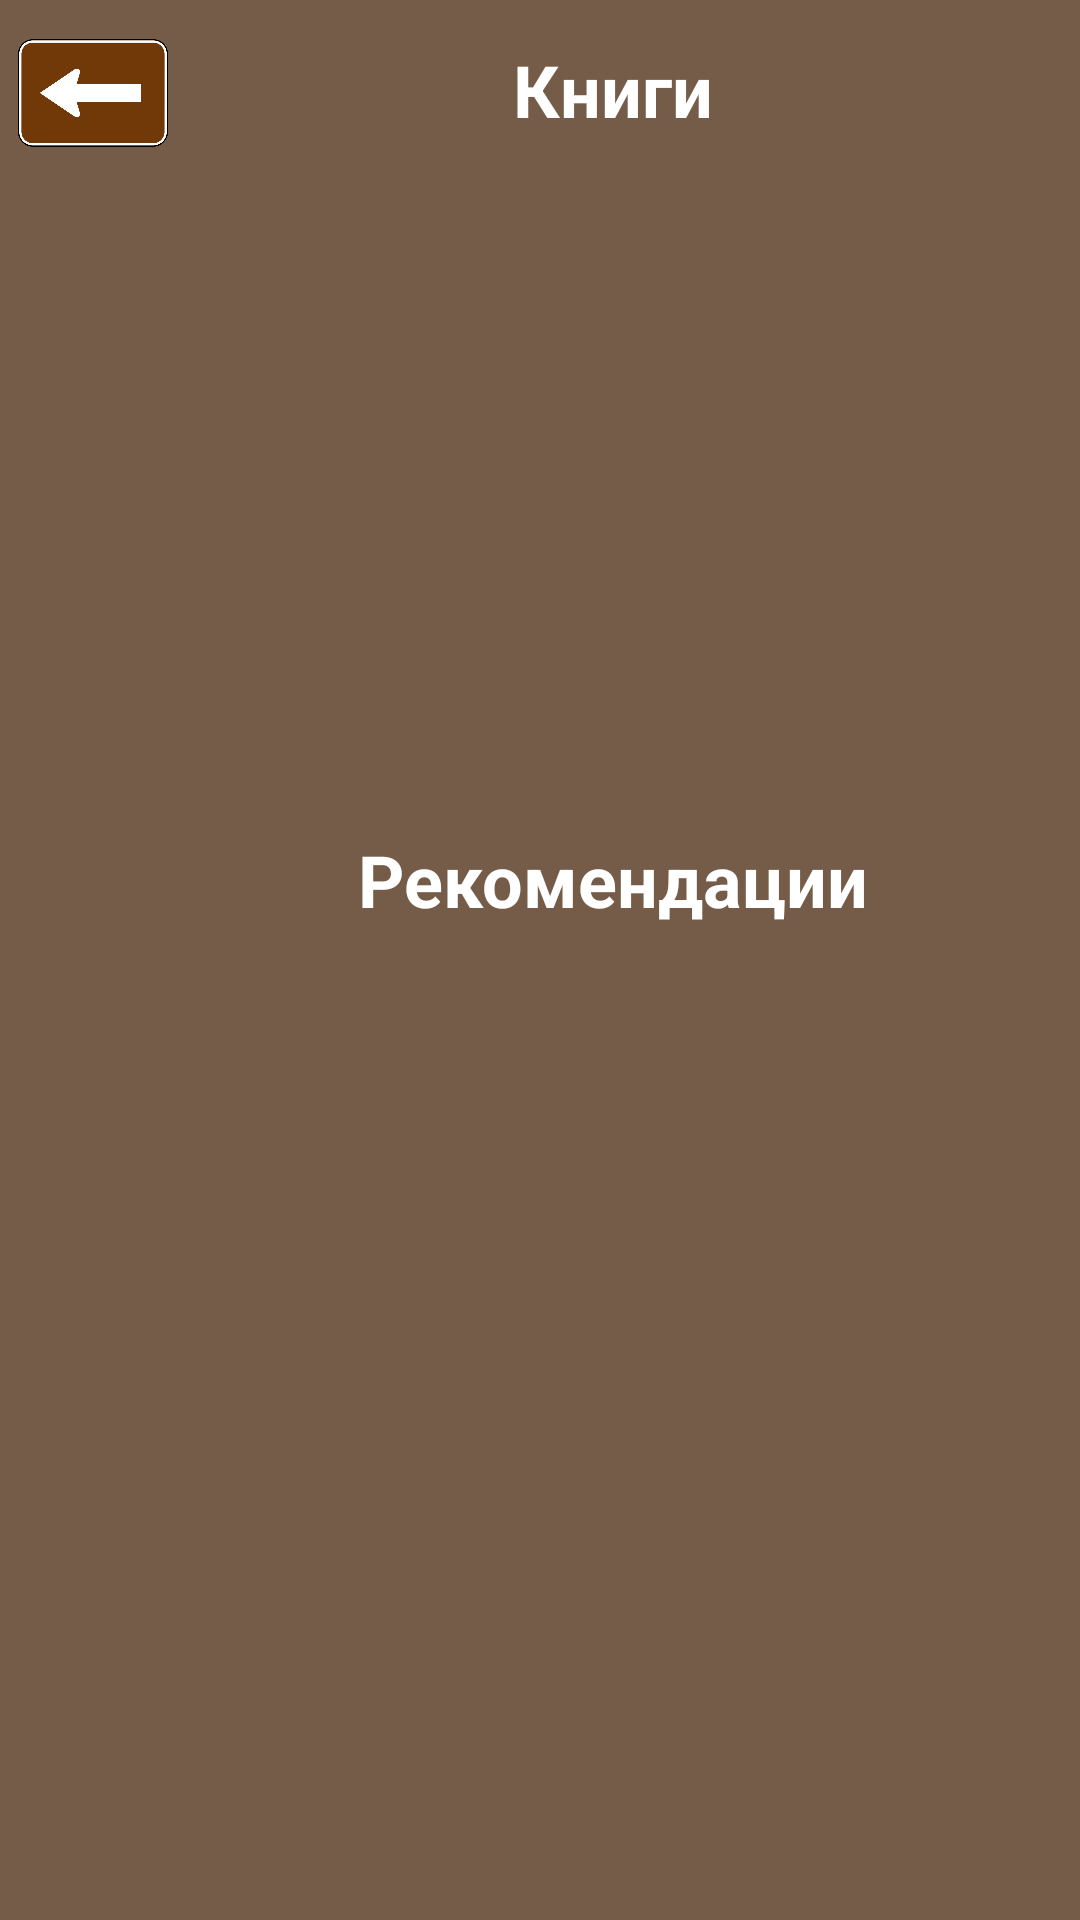

Screen size 1080x1920. Icon name, then its box in pixels as (x1, y1, x2, y2):
bac: (18, 39, 168, 147)
